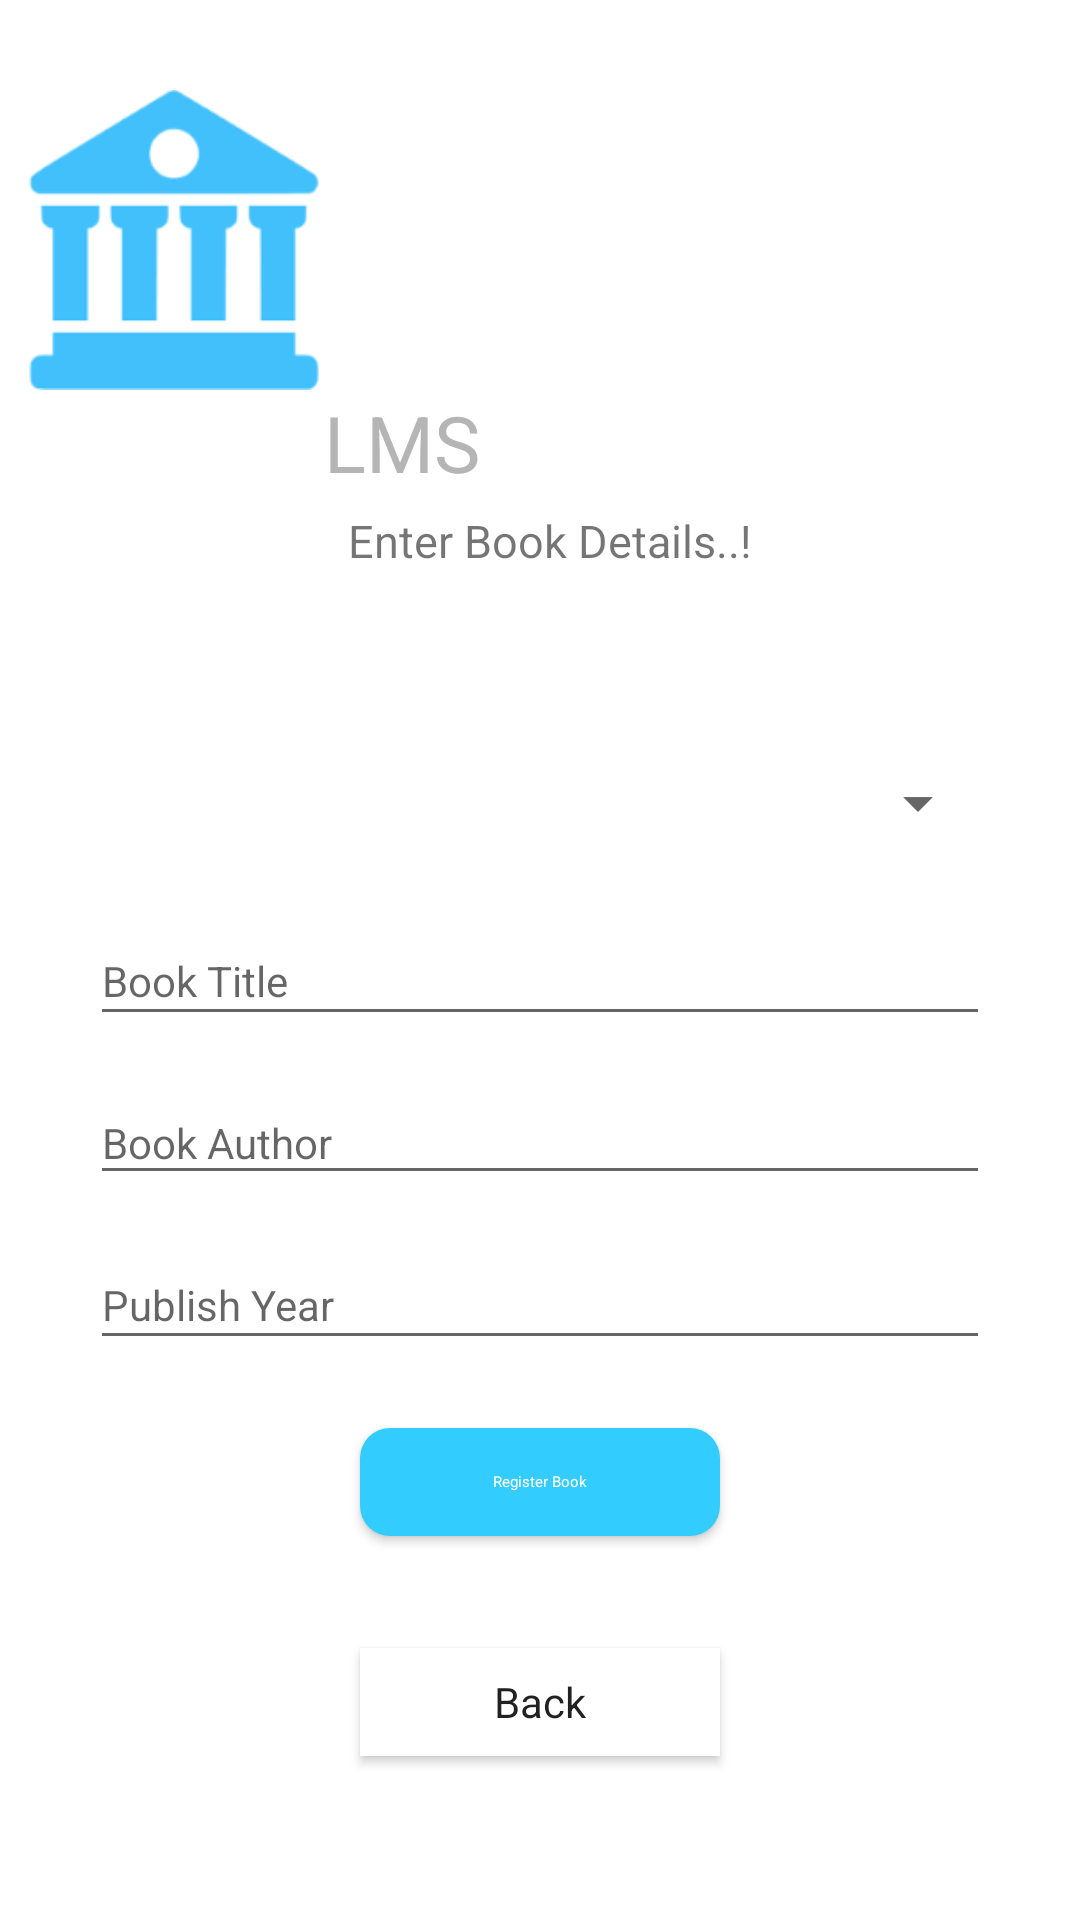

Icons on this 1080w x 1920h Android screen, each with its box as (x1, y1, x2, y2):
appicon: (29, 90, 319, 390)
